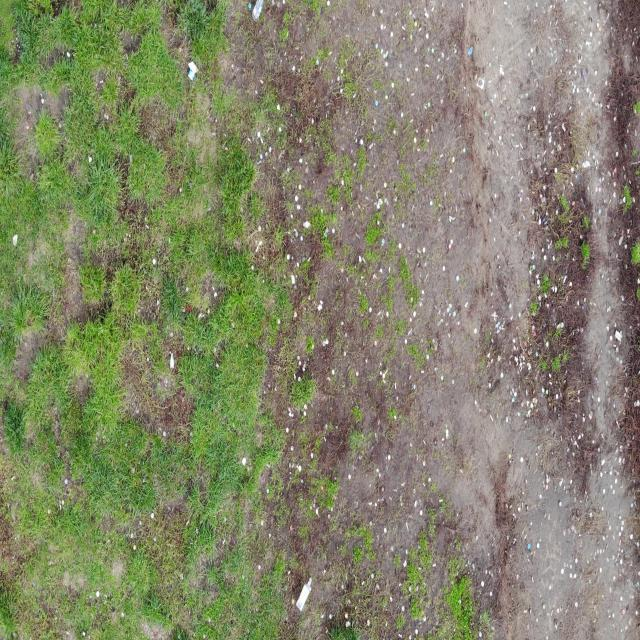rubbish: (294, 575, 313, 614), (186, 58, 201, 83), (250, 0, 264, 22), (170, 353, 174, 371)
